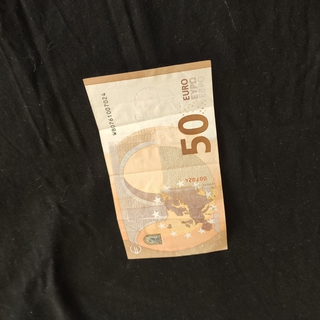50EUROBack: (81, 58, 229, 260)
